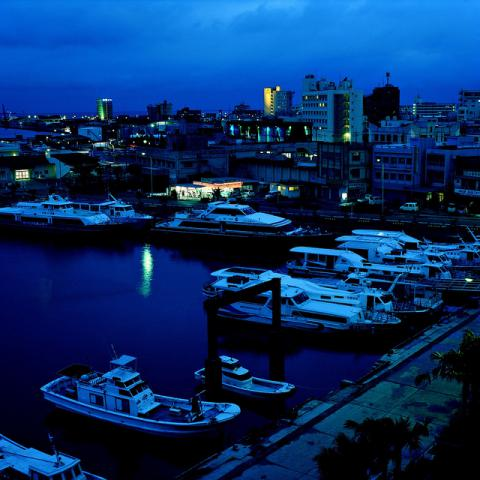car: (370, 196, 382, 206)
